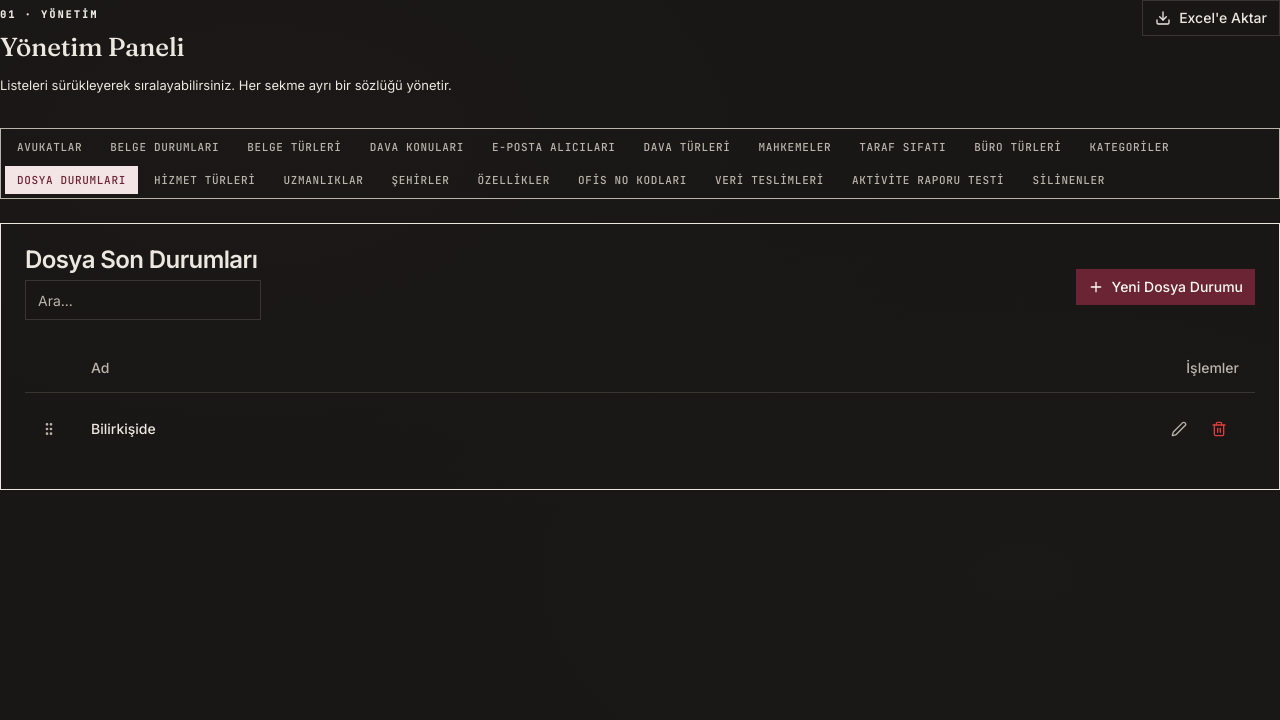
Test case: AdminPage Hizmet Türleri sekmesi (G256) › veri ekibi uyarısı yalnız hizmet türlerinde çıkar (dosya durumu düzenlemesinde yok)
Click the 4th button.
click(1179, 429)  # box x1=1159 y1=409 x2=1199 y2=449
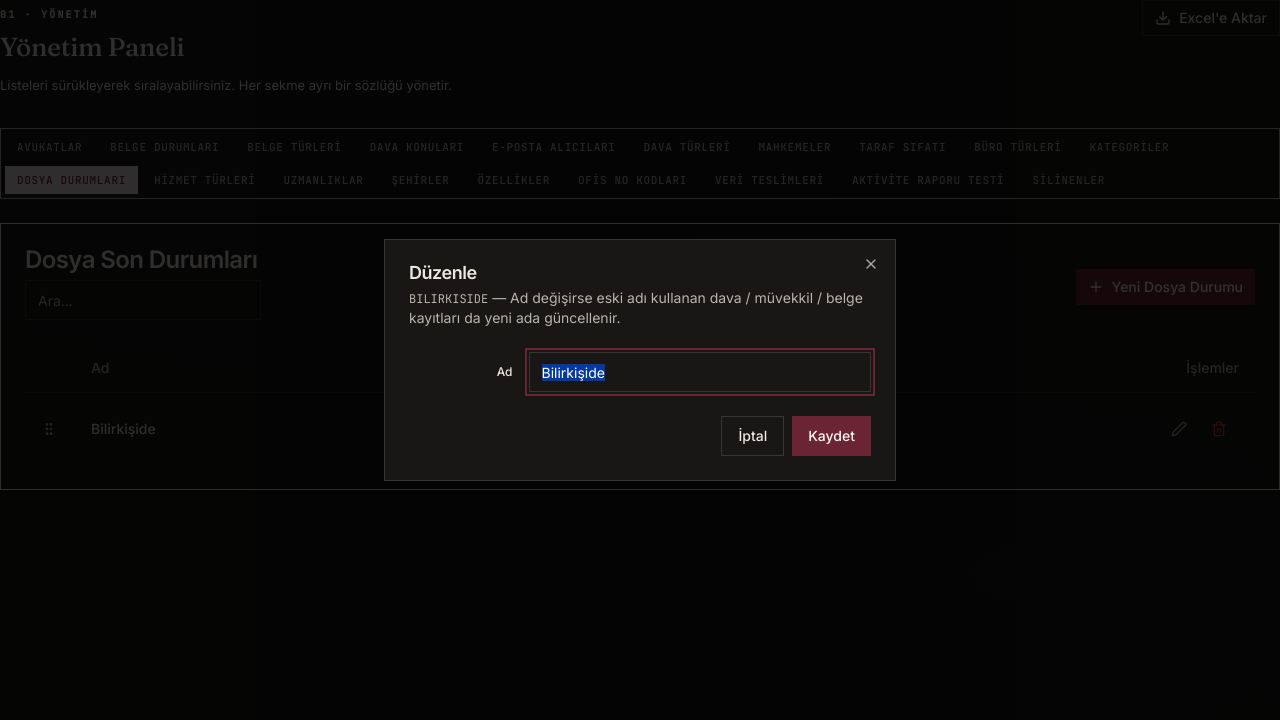
Result: the field holds "Bilirkişide" at x1=528 y1=352 x2=871 y2=392
